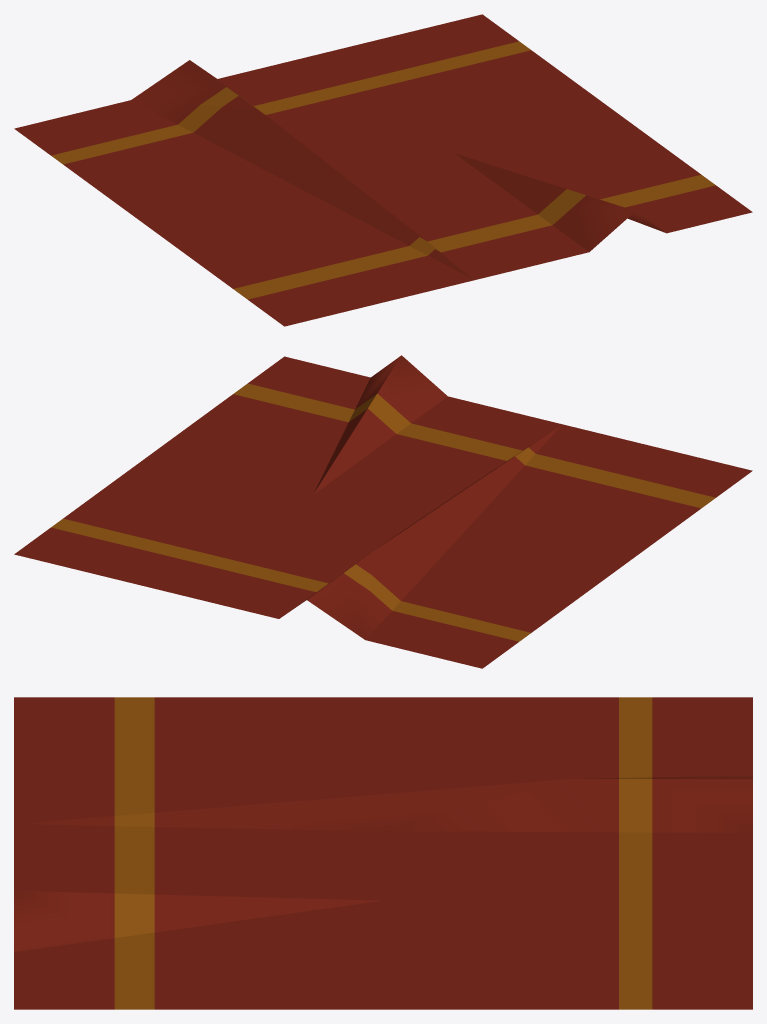
Rendered from Carpet_04.fbx.
3 views of the same model, one above another, from view 1: azimuth 30°, elevation 25°; view 2: azimuth 150°, elevation 25°; view 3: azimuth 270°, elevation 25° (orthographic). The views are drawn at different scales.
Parts seen in each view (by area): view 1: carpet_05; view 2: carpet_05; view 3: carpet_05.
Part boxes in pixels (bbox=[...]): carpet_05: bbox=[14, 14, 752, 326]; carpet_05: bbox=[14, 355, 752, 668]; carpet_05: bbox=[14, 697, 752, 1009].
Bounding box in the file's own units: 3.84 × 0.2339 × 3.84.
